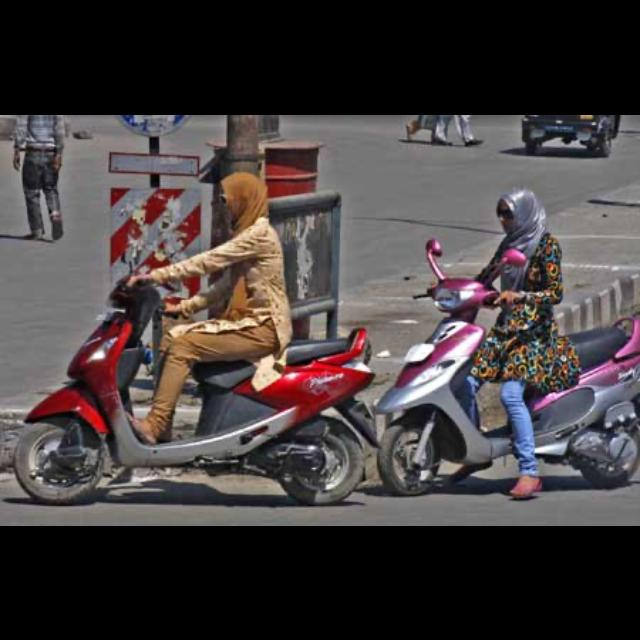Without Helmet: (212, 166, 274, 234), (488, 181, 558, 239)
